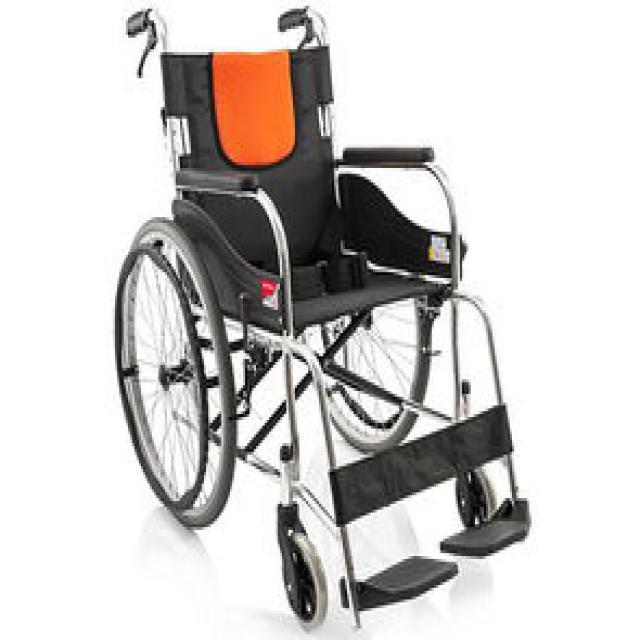wheelchair: (98, 5, 532, 638)
